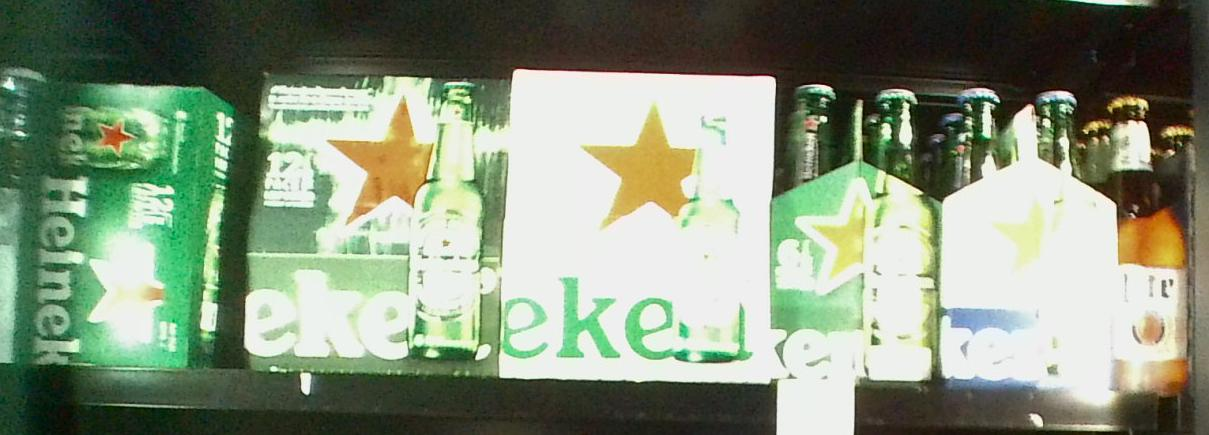bottle: (511, 67, 769, 381), (260, 72, 508, 379), (16, 79, 241, 372), (937, 88, 1115, 386), (777, 81, 940, 386)
